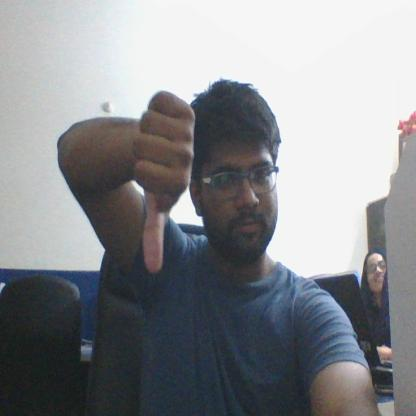thumbs-down: (132, 90, 194, 276)
